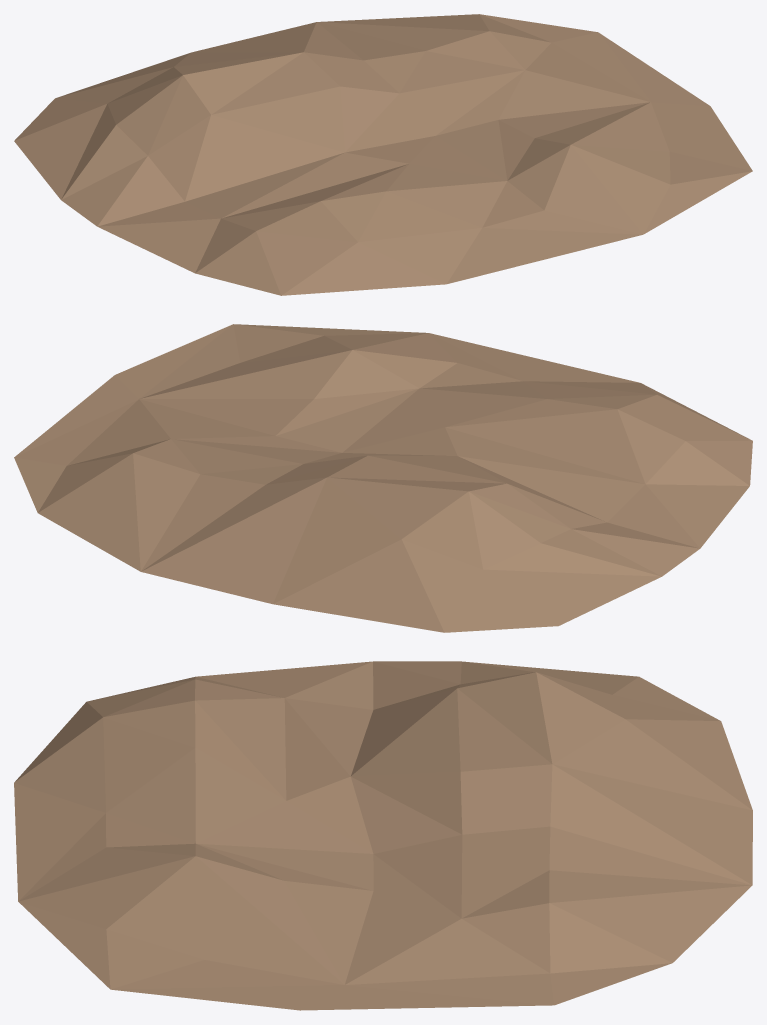
Rendered from TB_Env_LowMoundCir_C.FBX.
3 renders of one model, top to bottom at view 1: azimuth 30°, elevation 25°; view 2: azimuth 150°, elevation 25°; view 3: azimuth 270°, elevation 25°, orthographic. The views are drawn at different scales.
Visible parts, largest first — view 1: TB_Env_LowMoundCir_C; view 2: TB_Env_LowMoundCir_C; view 3: TB_Env_LowMoundCir_C.
Part boxes in pixels (x1,y1,x2,y2): TB_Env_LowMoundCir_C: (14, 14, 752, 295); TB_Env_LowMoundCir_C: (14, 324, 752, 632); TB_Env_LowMoundCir_C: (14, 661, 752, 1010).
Size of the model in its own units: 13.97 by 1.5 by 12.5.
